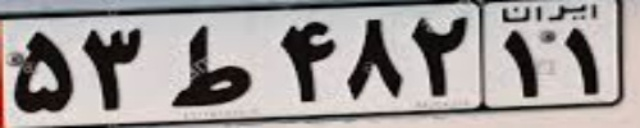1: (502, 26, 542, 98), (560, 28, 602, 96)
2: (410, 14, 474, 98)
3: (82, 25, 143, 110)
4: (279, 20, 335, 102)
5: (15, 30, 73, 113)
8: (348, 17, 402, 98)
taa: (172, 24, 251, 109)
